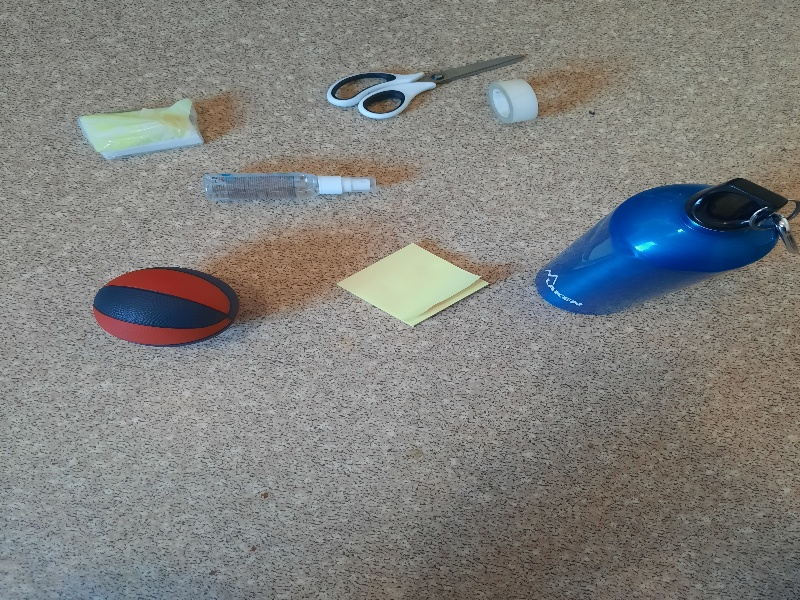ballon: (91, 267, 245, 353)
ciseaux: (323, 54, 533, 115)
gel: (204, 172, 376, 199)
gourde: (537, 176, 799, 316)
mouchoirs: (69, 99, 213, 161)
post-it: (333, 244, 495, 328)
scotch: (490, 81, 538, 125)
